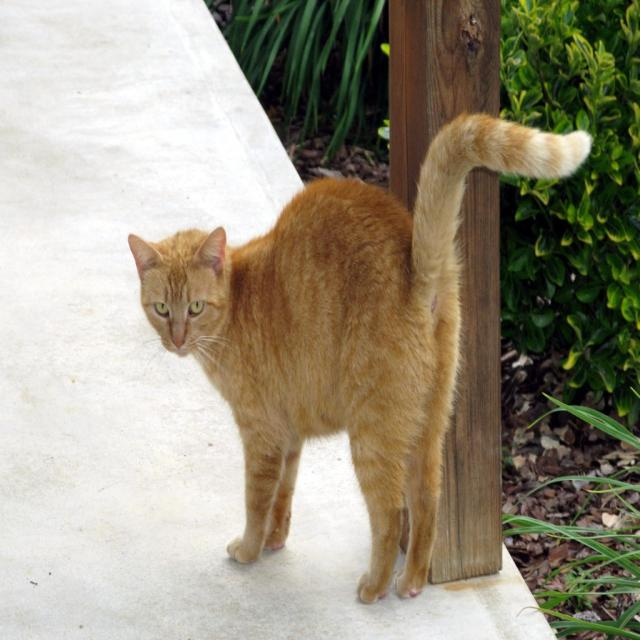Cat: (123, 108, 593, 608)
